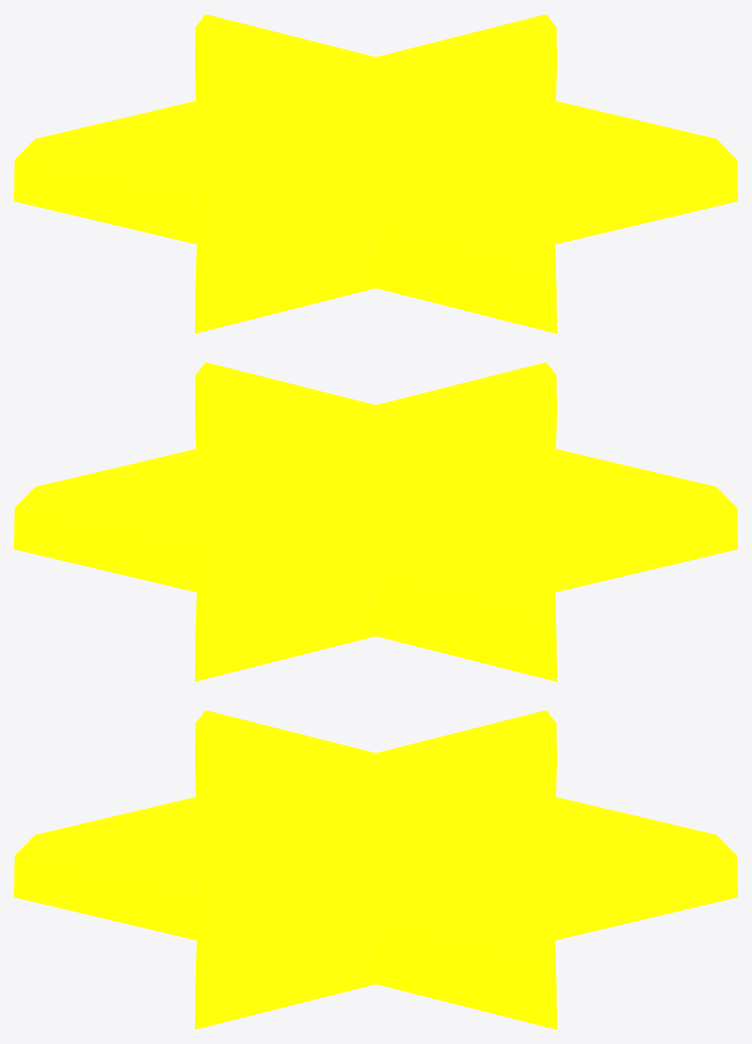
Rendered from gingerbread-star-b.glb.
3 views of the same model, one above another, from view 1: azimuth 30°, elevation 25°; view 2: azimuth 150°, elevation 25°; view 3: azimuth 270°, elevation 25° (orthographic).
Visible parts, largest first — view 1: gingerbread_star_b; view 2: gingerbread_star_b; view 3: gingerbread_star_b.
Boxes of the visible parts, x1=… form: gingerbread_star_b: x1=14, y1=14, x2=737, y2=333; gingerbread_star_b: x1=14, y1=362, x2=737, y2=681; gingerbread_star_b: x1=14, y1=710, x2=737, y2=1029.
Size of the model in its own units: 0.0597 by 0.00656 by 0.069.
Materials: 1 (1 with a texture image).
